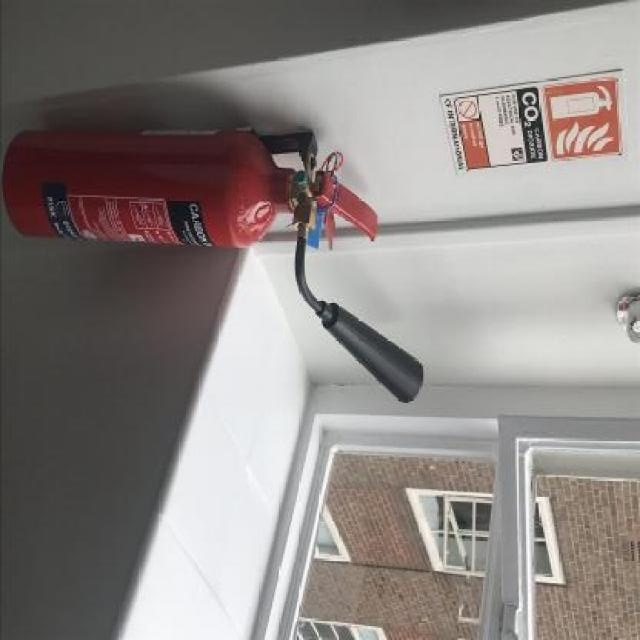fire extinguisher: (0, 109, 428, 413)
